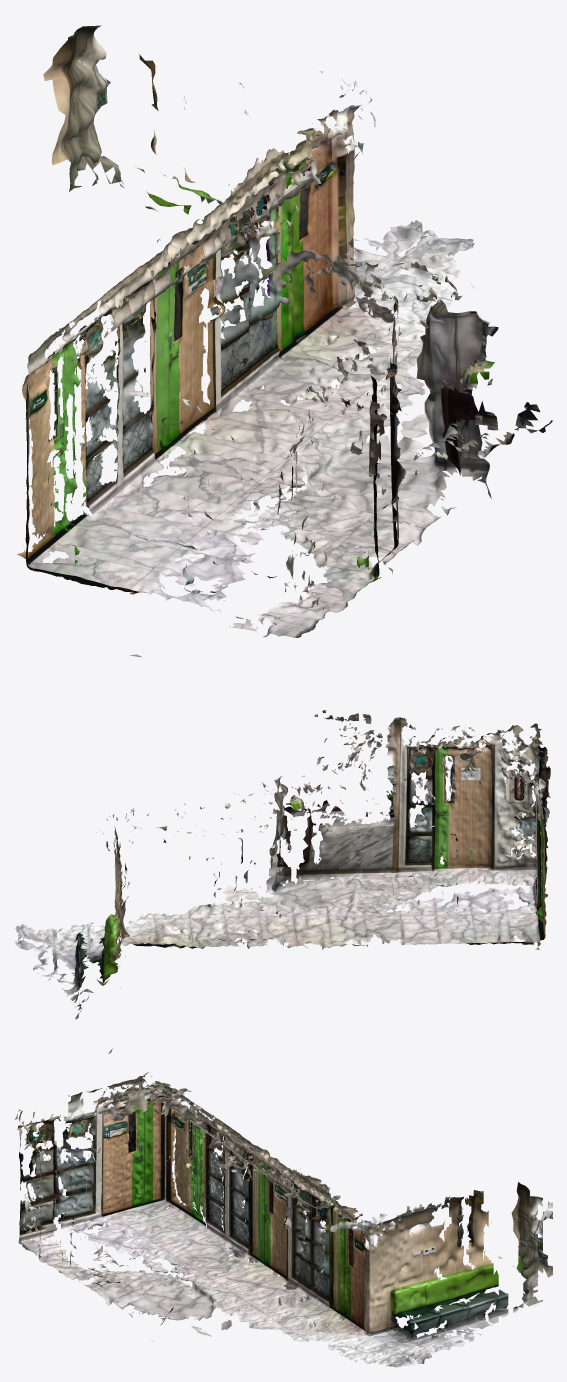
File: 147319-TLT6SampingKiriFarmasi-tex.glb
The picture shows the model from 3 angles, top to bottom: view 1: azimuth 30°, elevation 25°; view 2: azimuth 150°, elevation 25°; view 3: azimuth 270°, elevation 25°; orthographic projection. The views are drawn at different scales.
Parts seen in each view (by area): view 1: Node; view 2: Node; view 3: Node.
Boxes of the visible parts, box(x1,y1,x2,y2) form: Node: box(17, 25, 552, 657); Node: box(15, 710, 550, 1019); Node: box(15, 1048, 552, 1367).
Bounding box in the file's own units: 6.62 × 3.65 × 8.46.
18 materials, 18 textured.
